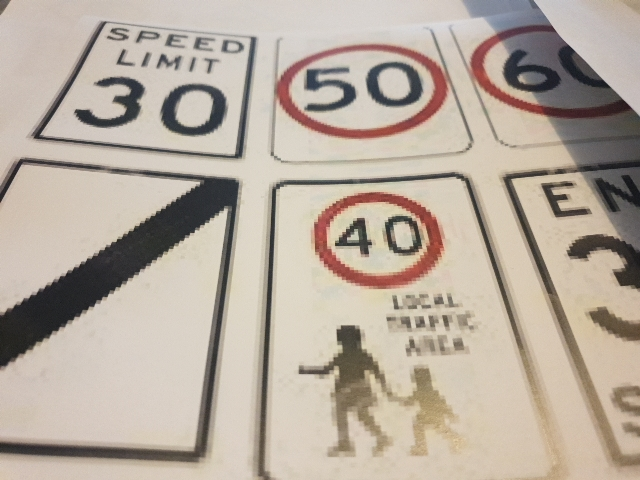sp30: (83, 68, 242, 144)
sp40: (304, 186, 464, 286)
sp50: (283, 43, 456, 134)
sp60: (462, 23, 640, 124)
